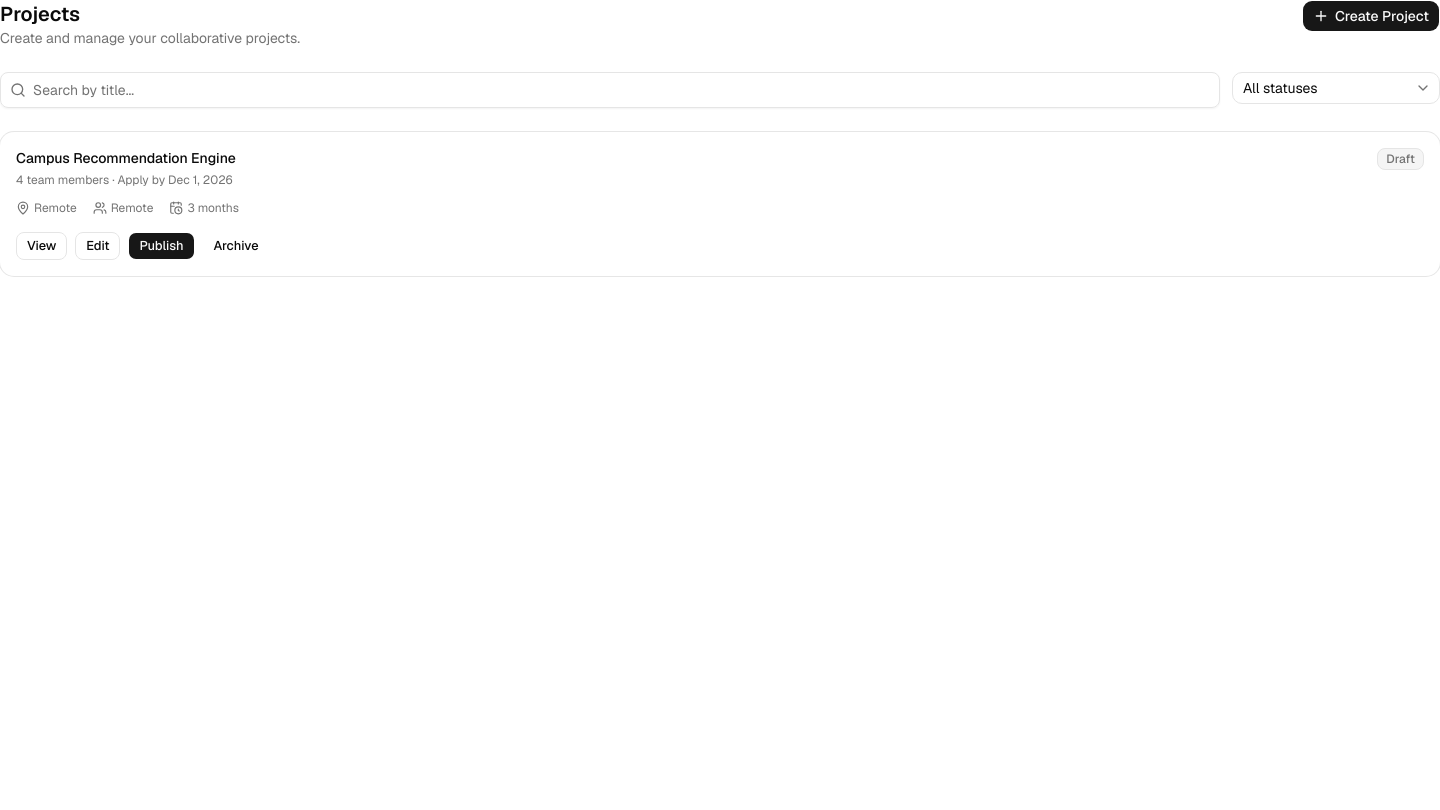
Test: ProjectsListView › publishes a project through the confirmation dialog
The image size is (1440, 810).
Expected: the link "Campus Recommendation Engine" is shown, [16,148,236,168]
Click the button "Publish" at point(162, 246), box [128,232,195,260]
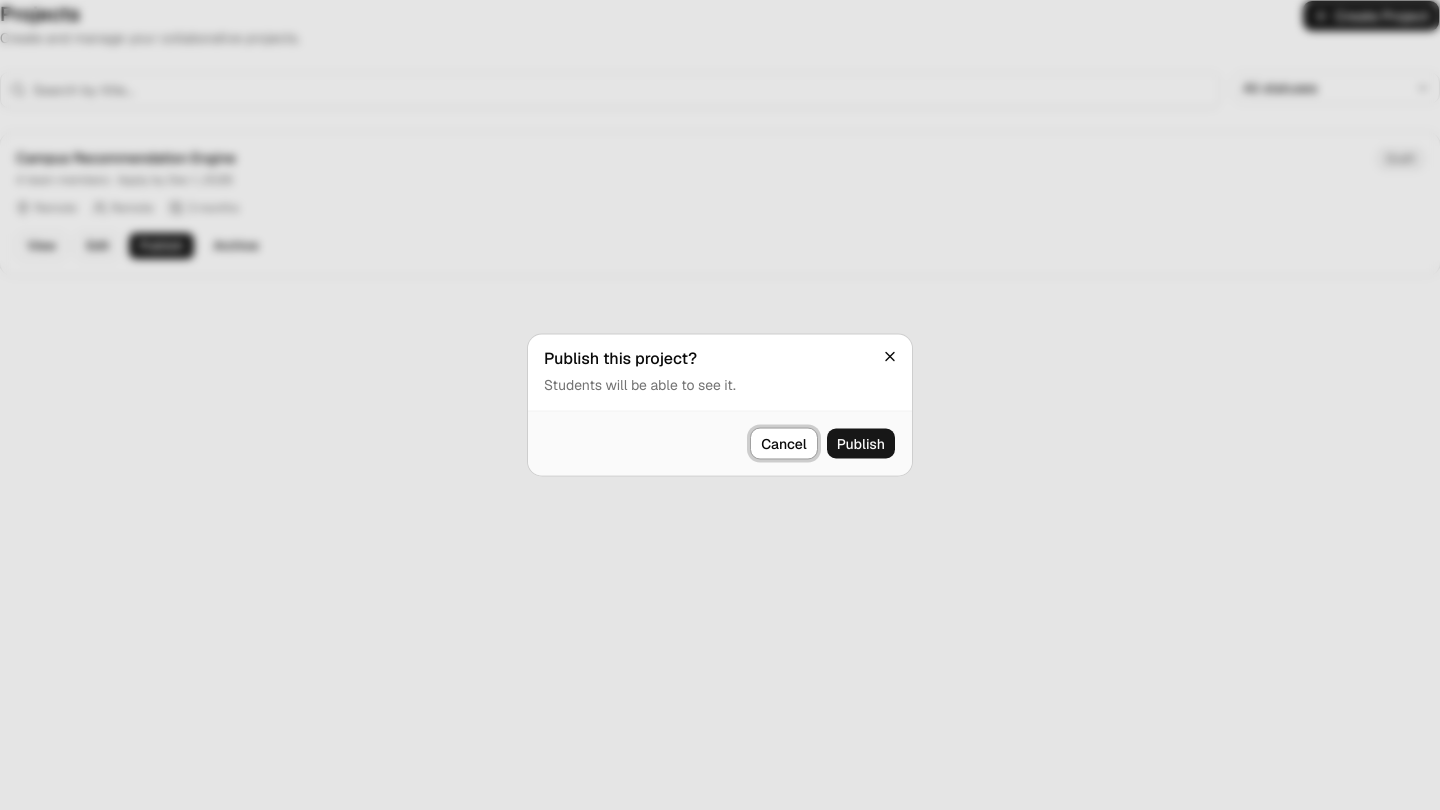
Click the button "Publish" at point(861, 444), box [826,428,896,460]
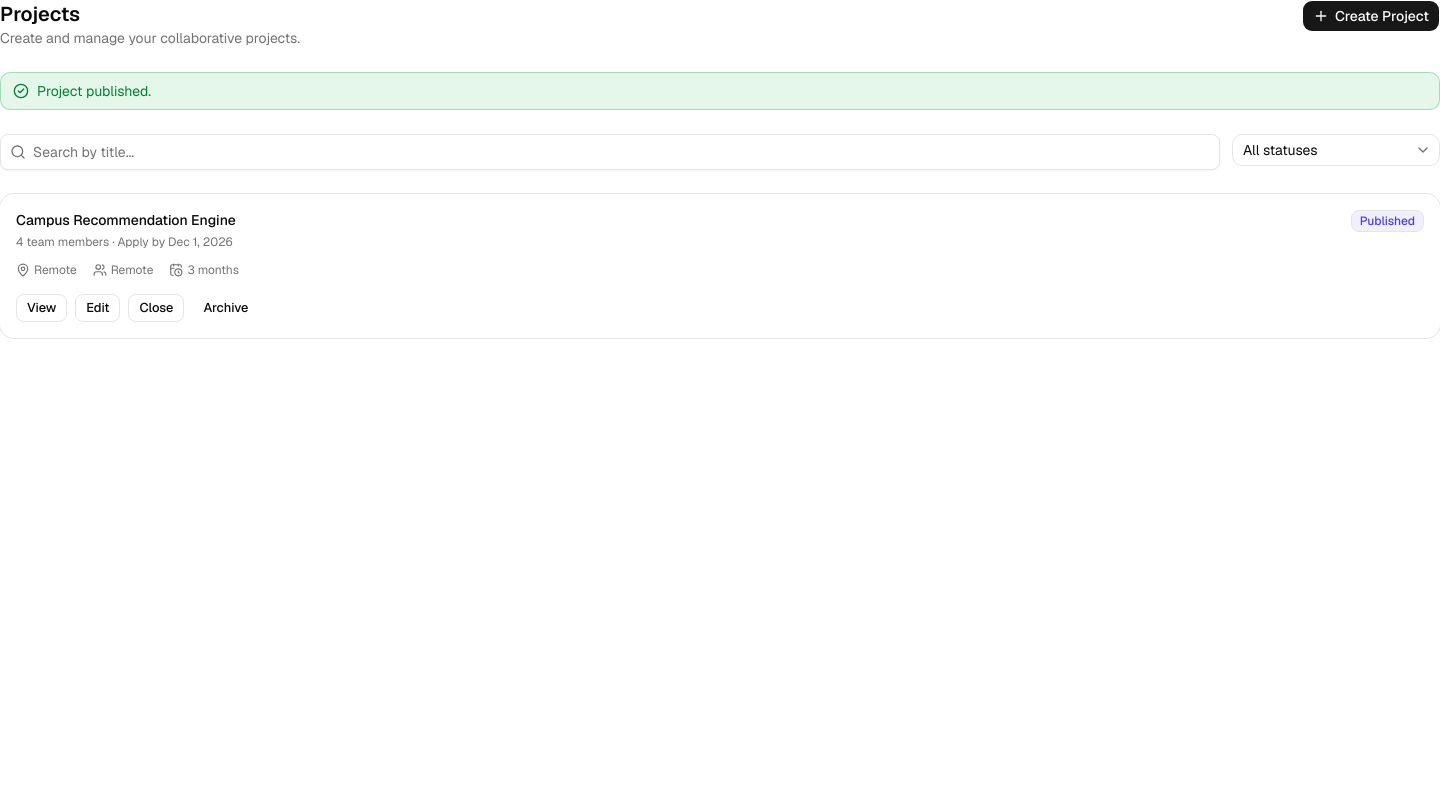
Now the text "Project published." is shown, box [37,81,151,101]
